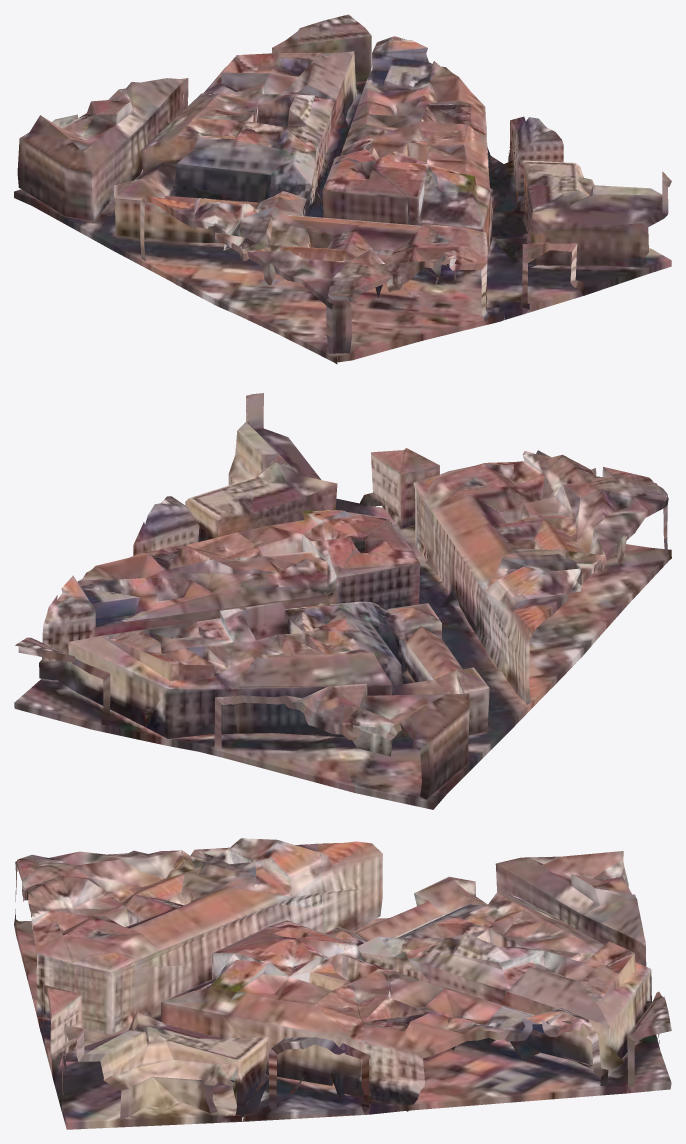
3 renders of one model, top to bottom at view 1: azimuth 30°, elevation 25°; view 2: azimuth 150°, elevation 25°; view 3: azimuth 270°, elevation 25°, orthographic. The views are drawn at different scales.
Visible parts, largest first — view 1: Mesh_0; view 2: Mesh_0; view 3: Mesh_0.
Part boxes in pixels (box(x1,y1,x2,y2)): Mesh_0: box(14, 14, 671, 364); Mesh_0: box(14, 393, 671, 809); Mesh_0: box(14, 838, 671, 1129).
Size of the model in its own units: 133 by 31.49 by 165.
2 materials, 2 textured.
